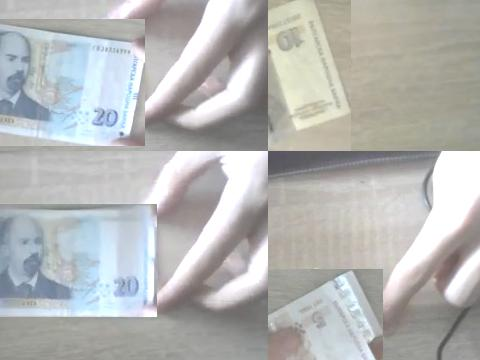10leva: (268, 0, 351, 146)
20leva: (0, 21, 145, 146), (0, 204, 157, 317)
5leva: (268, 269, 383, 360)
